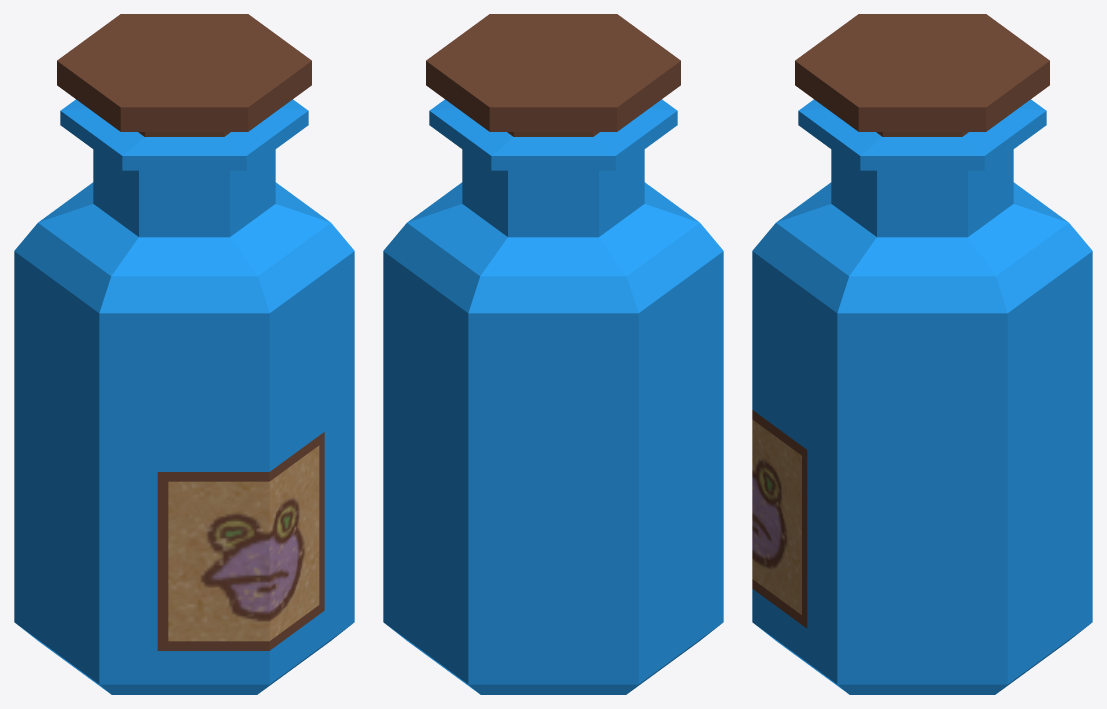
File: Deceleration potion.fbx
3 renders of one model, left to right at view 1: azimuth 30°, elevation 25°; view 2: azimuth 150°, elevation 25°; view 3: azimuth 270°, elevation 25°, orthographic.
Visible parts, largest first — view 1: Deceleration potion; view 2: Deceleration potion; view 3: Deceleration potion.
Boxes of the visible parts, x1,y1,x2,y2 form: Deceleration potion: (14, 14, 354, 694); Deceleration potion: (383, 14, 723, 694); Deceleration potion: (752, 14, 1092, 694).
Bounding box in the file's own units: 138 × 300 × 160.
Materials: 2 (1 with a texture image).
